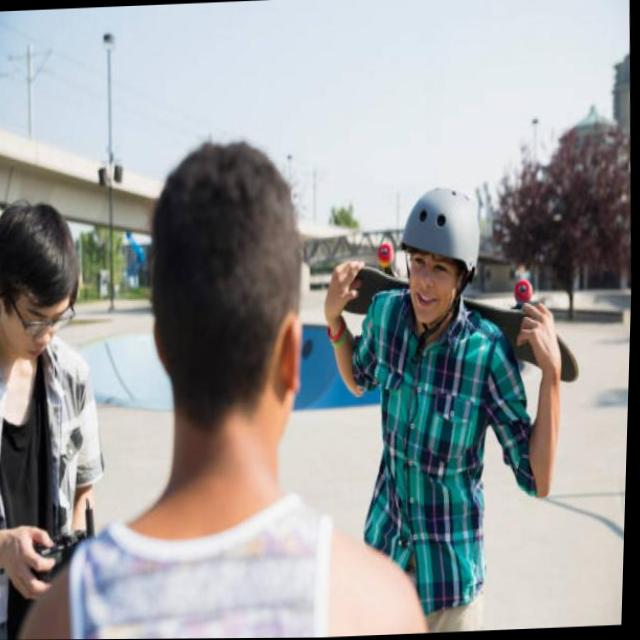no helmet: (148, 128, 312, 483)
